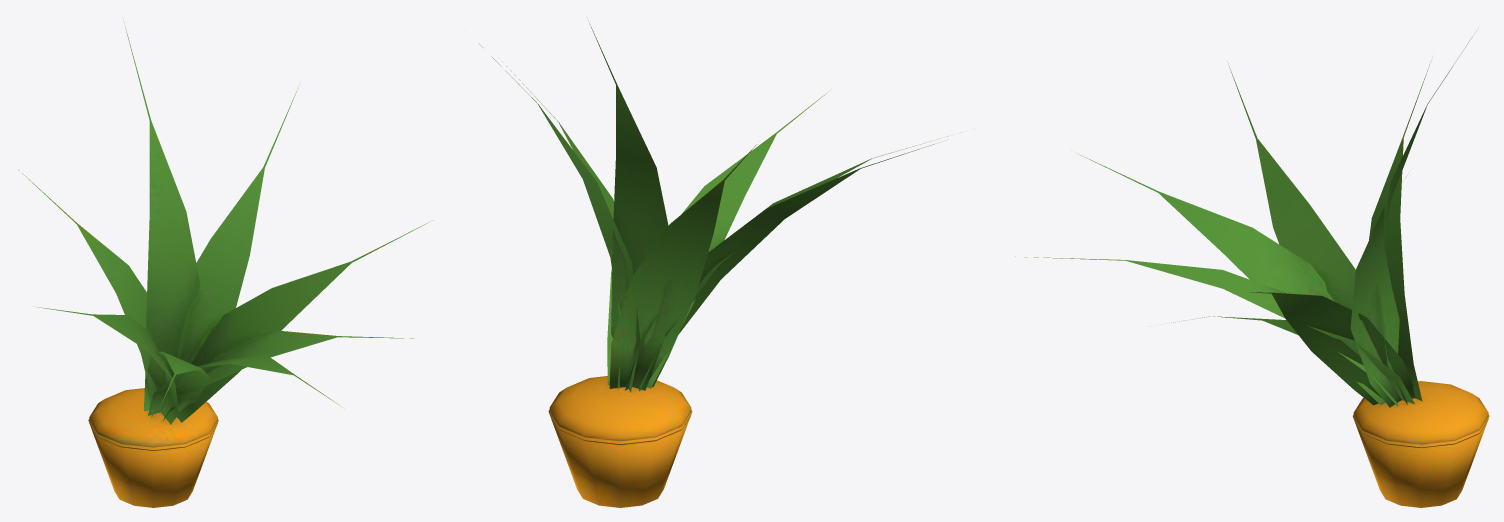
File: crop_turmeric.glb
3 renders of one model, left to right at view 1: azimuth 30°, elevation 25°; view 2: azimuth 150°, elevation 25°; view 3: azimuth 270°, elevation 25°, orthographic. The views are drawn at different scales.
Parts seen in each view (by area): view 1: crop_turmeric, fruit; view 2: crop_turmeric, fruit; view 3: crop_turmeric, fruit.
Boxes of the visible parts, x1,y1,x2,y2 form: crop_turmeric: [18, 21, 432, 424]; fruit: [88, 388, 218, 507]; crop_turmeric: [479, 20, 947, 392]; fruit: [548, 376, 692, 507]; crop_turmeric: [1015, 36, 1472, 407]; fruit: [1352, 381, 1489, 507].
Size of the model in its own units: 0.3673 by 0.3837 by 0.3483.
Materials: 1 (1 with a texture image).
